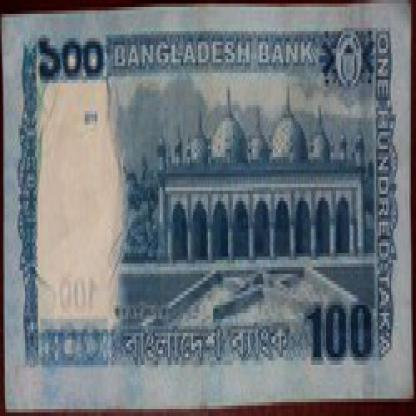one hundred taka: (306, 288, 376, 367), (35, 28, 106, 83)
